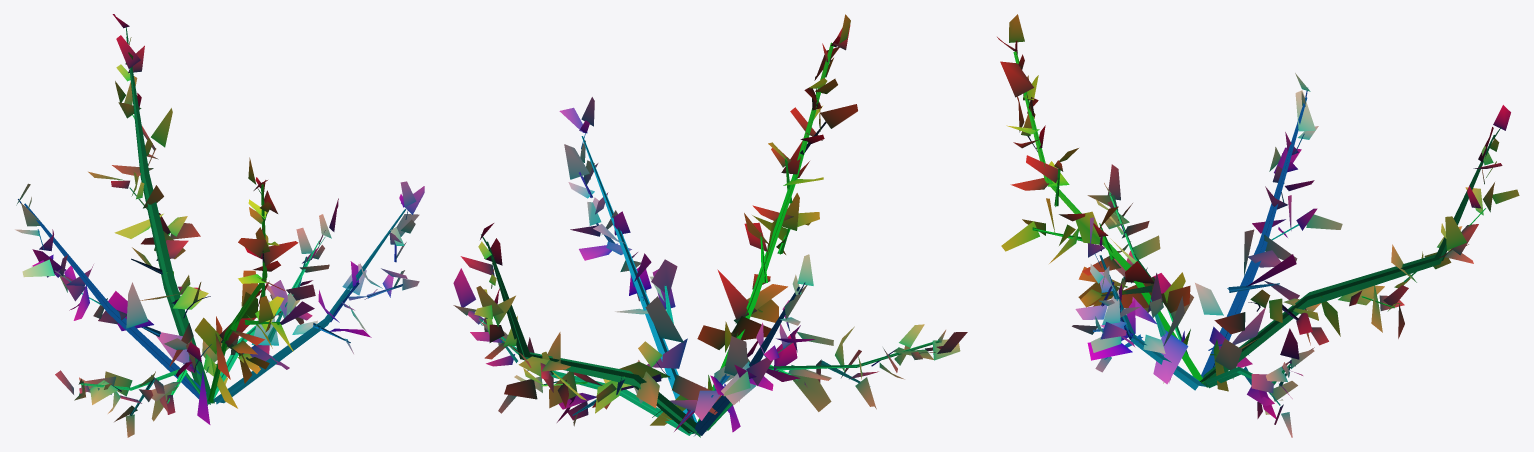
Rendered from Creeping_Saltbush_thckfiqr_Mid_thckfiqr_VarA_LOD2.fbx.
3 renders of one model, left to right at view 1: azimuth 30°, elevation 25°; view 2: azimuth 150°, elevation 25°; view 3: azimuth 270°, elevation 25°, orthographic. The views are drawn at different scales.
Parts seen in each view (by area): view 1: _3696_VarA_LOD3; view 2: _3696_VarA_LOD3; view 3: _3696_VarA_LOD3.
Boxes of the visible parts, x1,y1,x2,y2 form: _3696_VarA_LOD3: [15, 14, 424, 437]; _3696_VarA_LOD3: [453, 14, 967, 437]; _3696_VarA_LOD3: [997, 14, 1519, 437].
Bounding box in the file's own units: 62.37 × 52.71 × 70.52.
